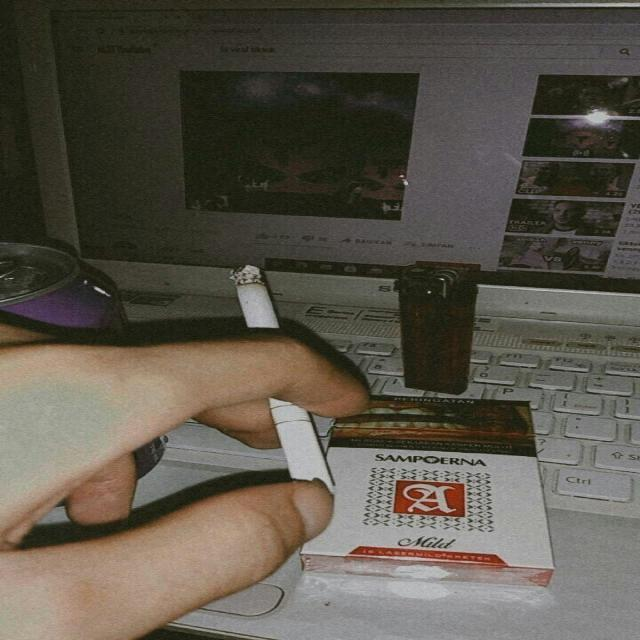rokok: (228, 258, 336, 492)
